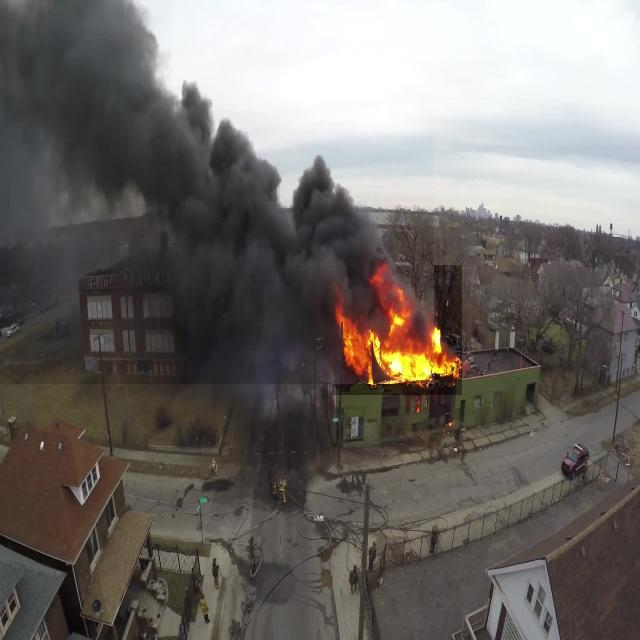Fire: (332, 266, 462, 396)
Smoke: (0, 0, 434, 384)
